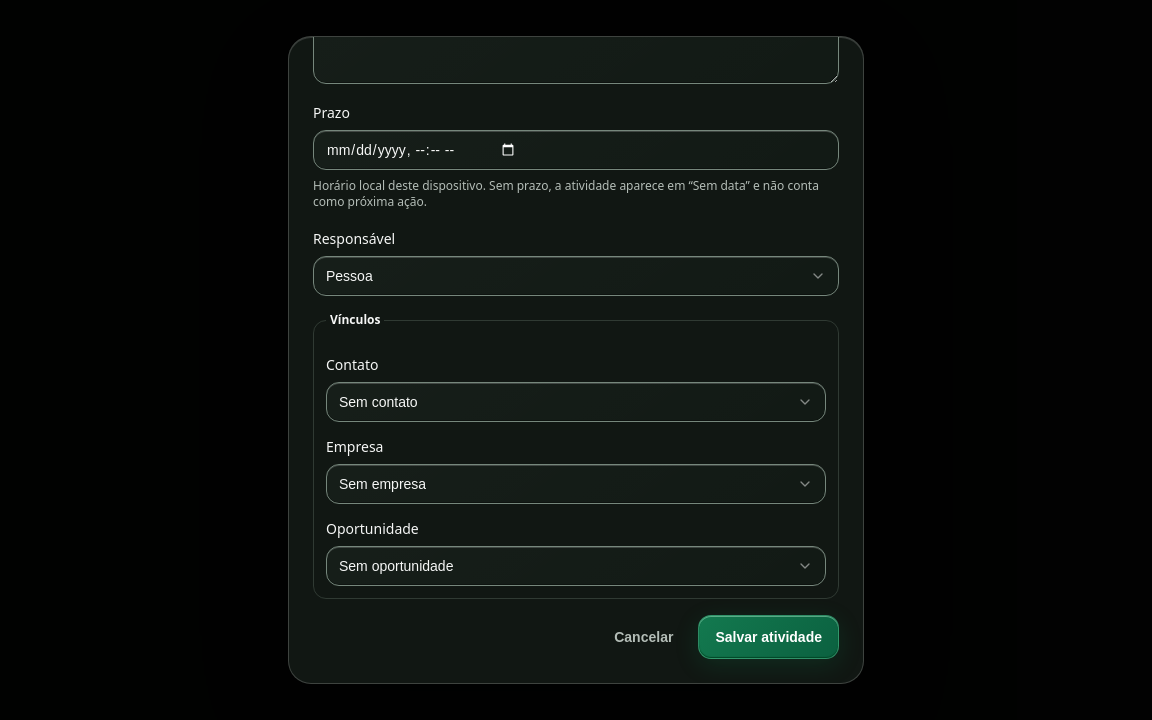
Test: editor único de atividades › preserva revisão e não reabre tarefa concluída por colega, mesmo após atualização das props
Earlier steps of the test are not shown.
(page scrolled)
Click the button "Salvar atividade".
click(769, 637)  # box 698,615 -> 839,659
(page scrolled)
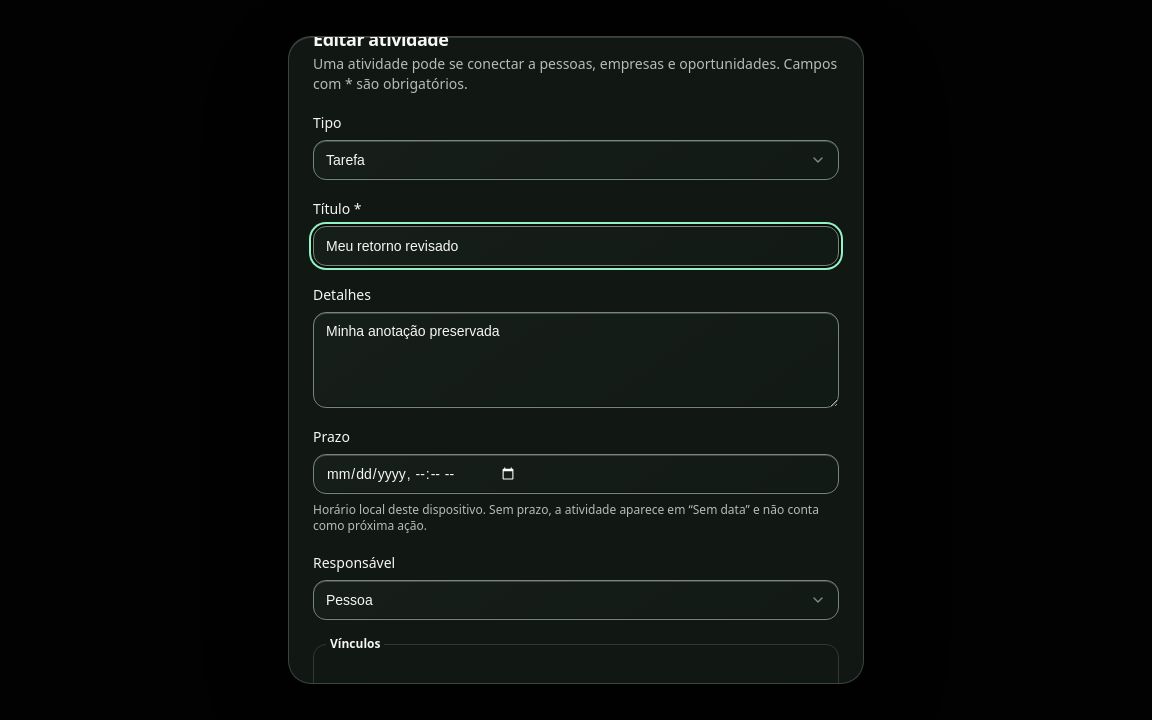
Expected: the text box labelled "Detalhes" holds "Minha anotação preservada", 313,312 -> 839,408
Now the field labelled "Título *" holds "Meu retorno revisado", box 313,226 -> 839,266
